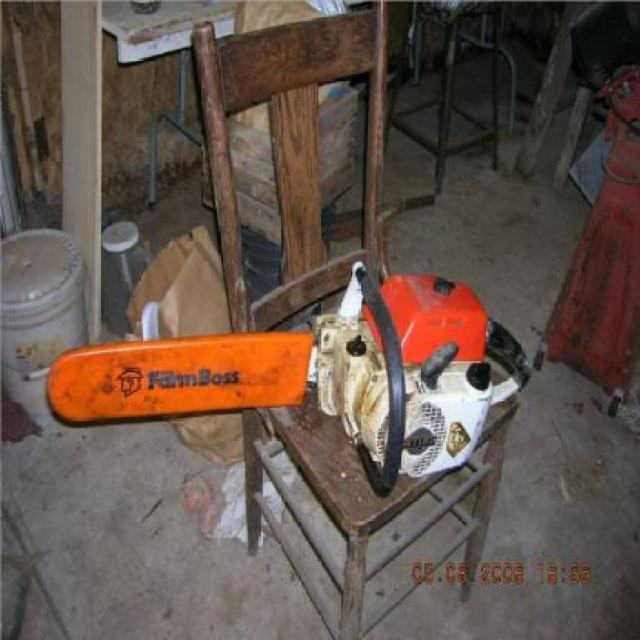Chainsaw: (29, 254, 542, 500)
